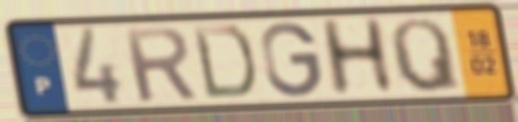4: (68, 24, 128, 108)
D: (188, 23, 259, 102)
G: (258, 20, 325, 101)
H: (315, 15, 399, 100)
Q: (386, 15, 465, 95)
R: (119, 24, 201, 105)
